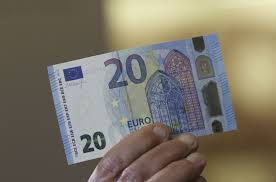billete: (48, 33, 238, 164)
